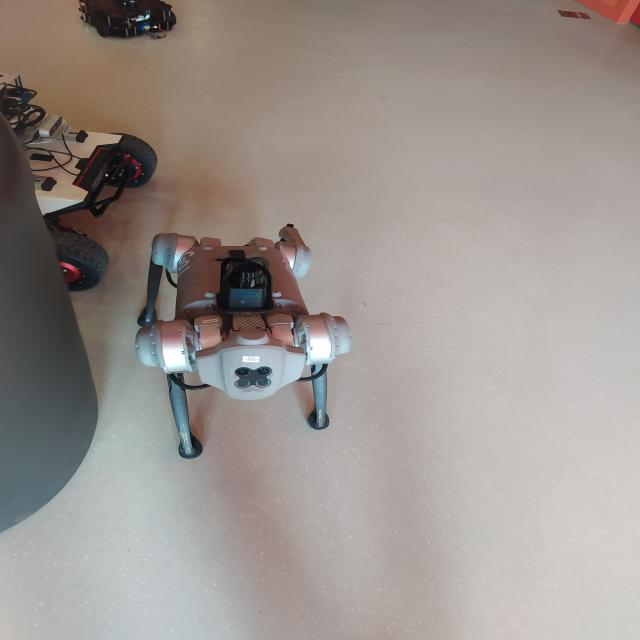unitree-go1-robot: (129, 212, 367, 464)
